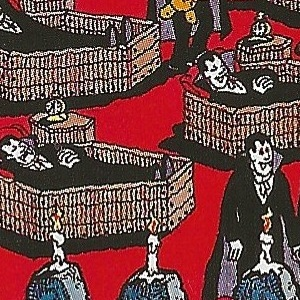Odlaw: (78, 132, 94, 168)
